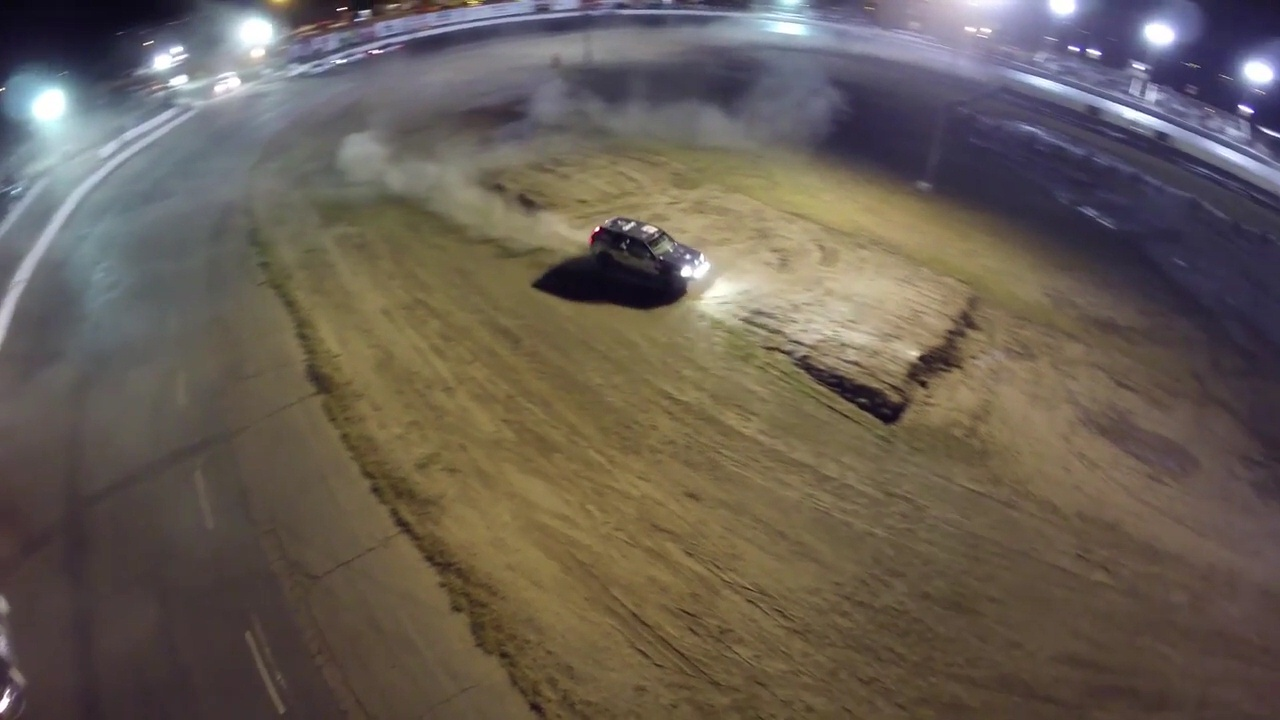araba: (582, 215, 710, 284)
